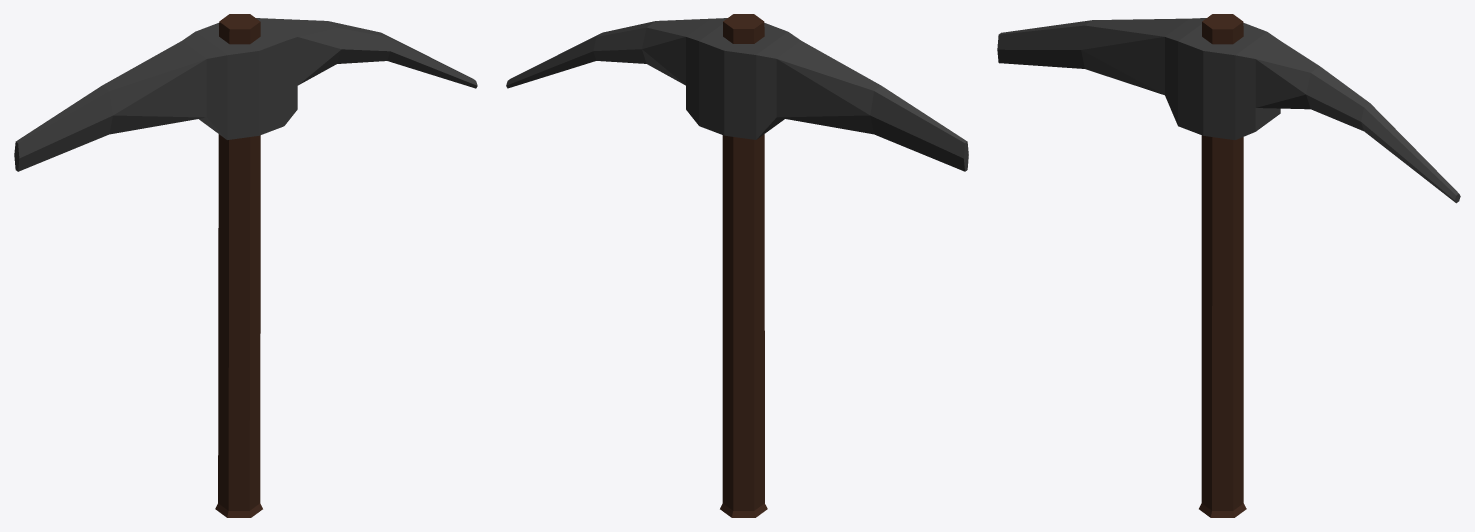
File: Pick_Axe_vc.fbx
The picture shows the model from 3 angles, left to right: view 1: azimuth 30°, elevation 25°; view 2: azimuth 150°, elevation 25°; view 3: azimuth 330°, elevation 25°; orthographic projection.
Parts seen in each view (by area): view 1: Pick_Axe_vc; view 2: Pick_Axe_vc; view 3: Pick_Axe_vc.
Boxes of the visible parts, x1,y1,x2,y2 form: Pick_Axe_vc: (14, 14, 477, 517); Pick_Axe_vc: (506, 14, 968, 517); Pick_Axe_vc: (997, 14, 1460, 517).
Bounding box in the file's own units: 40.98 × 42.18 × 6.07.
